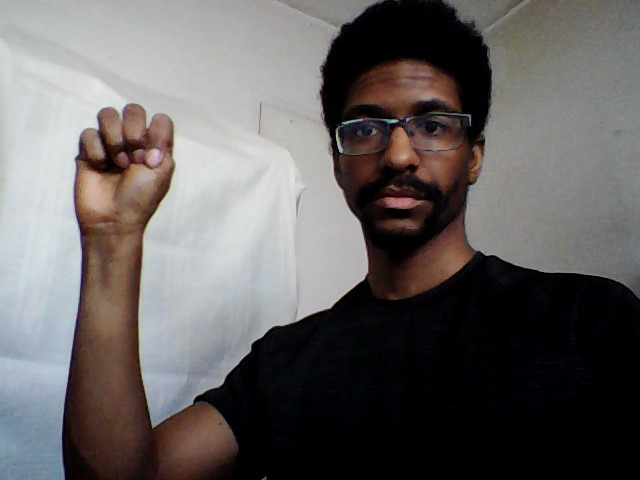m: (69, 100, 179, 240)
